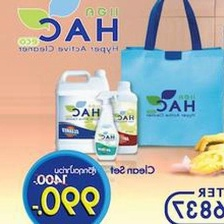cleaning_solution: (52, 67, 114, 158), (104, 79, 141, 157), (90, 88, 122, 165)
